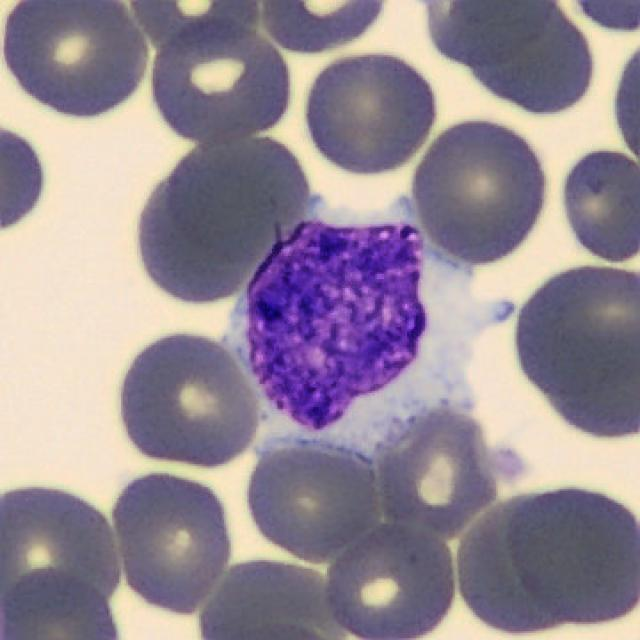Linfocito atipico: (222, 196, 512, 462)
